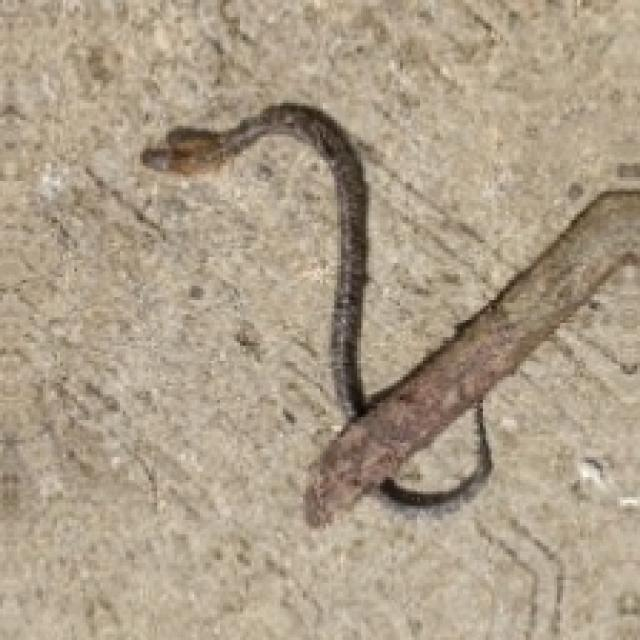philippine cobra: (143, 103, 637, 523)
